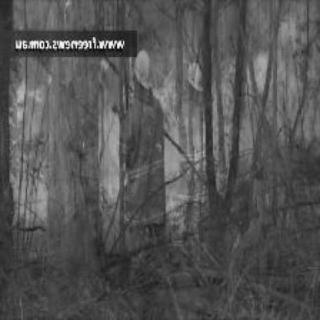Fire: (217, 11, 314, 172), (13, 72, 49, 238), (160, 90, 202, 230), (96, 103, 124, 209)
